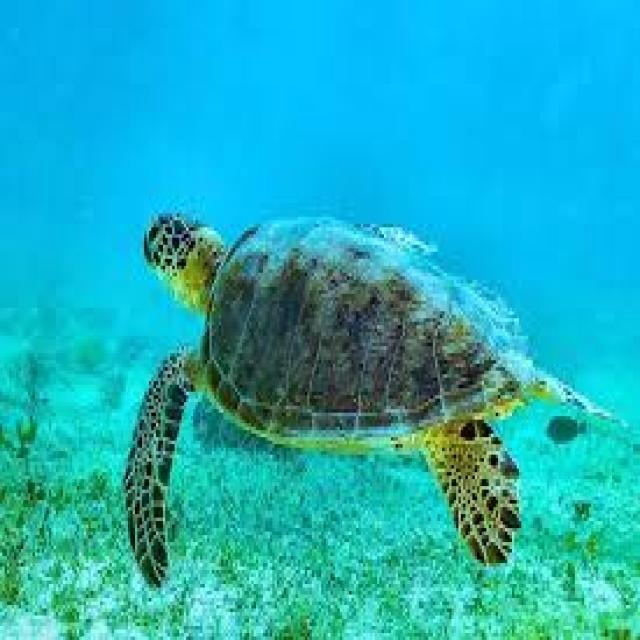Sea turtle: (121, 197, 617, 593)
